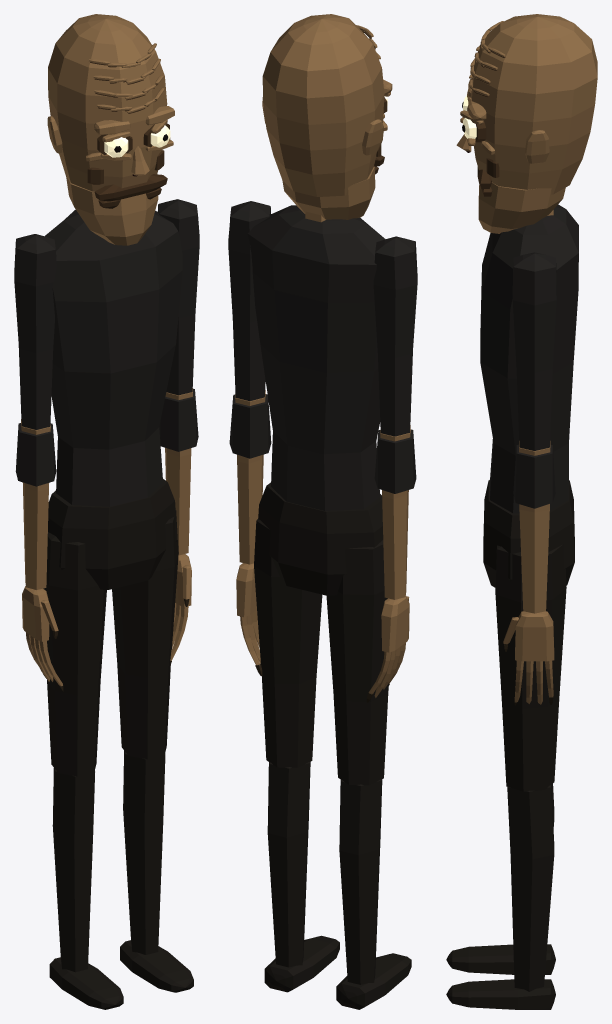
File: peeker.glb
3 views of the same model, side by side, from view 1: azimuth 30°, elevation 25°; view 2: azimuth 150°, elevation 25°; view 3: azimuth 270°, elevation 25° (orthographic). The views are drawn at different scales.
Parts seen in each view (by area): view 1: Spine, Head, Thigh.R, Thigh.L, Shin.R, Shin.L, Hips, UpperArm.R, Forearm.R, UpperArm.L, Forearm.L, Jaw (+2 smaller); view 2: Spine, Head, Thigh.R, Thigh.L, Shin.L, Shin.R, Hips, UpperArm.R, UpperArm.L, Forearm.R, Forearm.L, Hand.R (+2 smaller); view 3: Head, Spine, Shin.L, Thigh.L, UpperArm.L, Forearm.L, Hips, Hand.L, Jaw, Shin.R.
Boxes of the visible parts, bbox=[...] form: Spine: bbox=[45, 209, 182, 506]; Head: bbox=[47, 14, 174, 201]; Thigh.R: bbox=[43, 532, 106, 776]; Thigh.L: bbox=[112, 510, 178, 759]; Shin.R: bbox=[49, 768, 123, 1009]; Shin.L: bbox=[120, 750, 193, 992]; Hips: bbox=[48, 479, 177, 589]; UpperArm.R: bbox=[14, 234, 56, 429]; Forearm.R: bbox=[15, 419, 56, 589]; UpperArm.L: bbox=[158, 199, 199, 395]; Forearm.L: bbox=[159, 388, 198, 555]; Jaw: bbox=[65, 174, 161, 245]; Spine: bbox=[247, 205, 385, 510]; Head: bbox=[262, 14, 392, 196]; Thigh.R: bbox=[326, 540, 388, 785]; Thigh.L: bbox=[254, 518, 322, 767]; Shin.L: bbox=[264, 762, 339, 992]; Shin.R: bbox=[336, 779, 411, 1009]; Hips: bbox=[258, 482, 383, 595]; UpperArm.R: bbox=[373, 236, 417, 436]; UpperArm.L: bbox=[228, 201, 270, 401]; Forearm.R: bbox=[374, 425, 416, 599]; Forearm.L: bbox=[229, 390, 271, 564]; Hand.R: bbox=[366, 596, 409, 702]; Head: bbox=[456, 14, 597, 194]; Spine: bbox=[480, 204, 578, 513]; Shin.L: bbox=[446, 785, 555, 1009]; Thigh.L: bbox=[495, 544, 566, 791]; UpperArm.L: bbox=[512, 252, 556, 450]; Forearm.L: bbox=[513, 441, 555, 613]; Hips: bbox=[483, 480, 574, 587]; Hand.L: bbox=[503, 611, 554, 705]; Jaw: bbox=[478, 182, 565, 233]; Shin.R: bbox=[446, 784, 555, 974].
Bounding box in the file's own units: 0.3956 × 1.95 × 0.2755.
